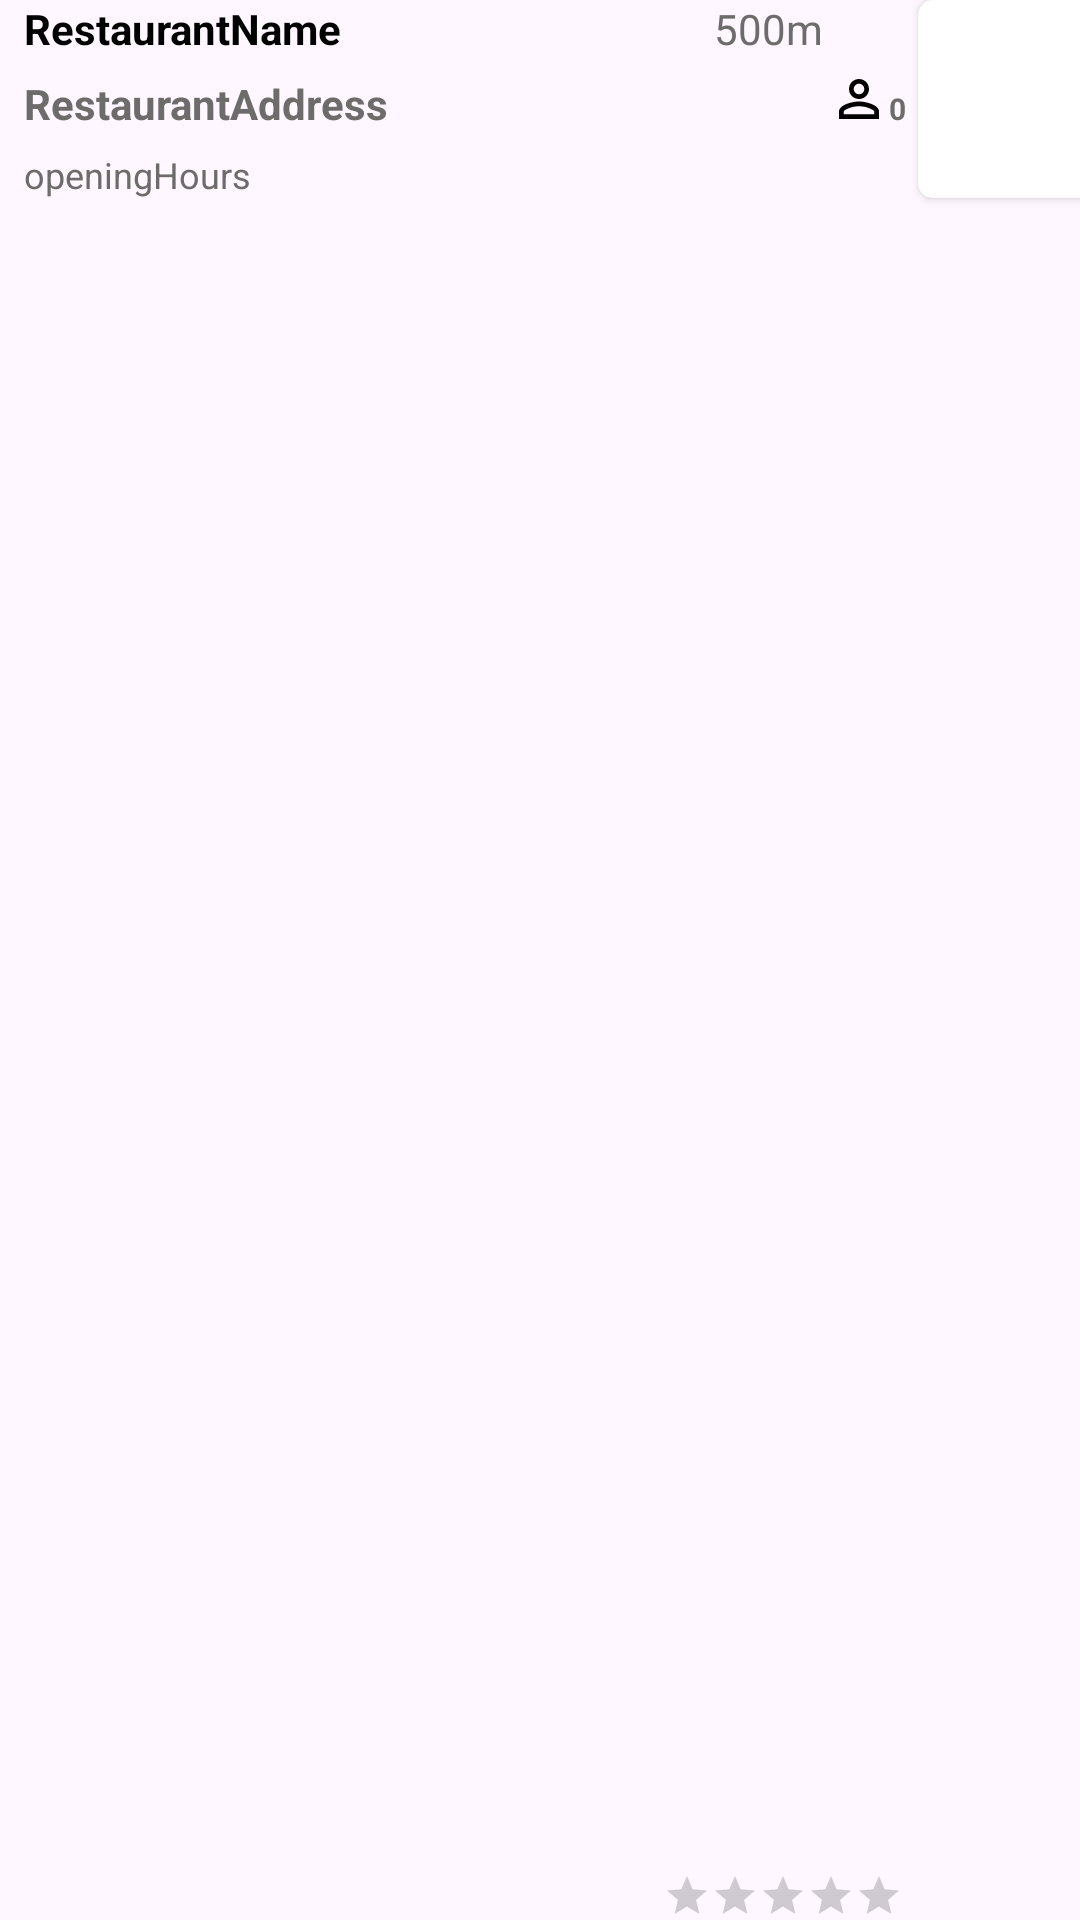

Icon click points for this 1080px×1920px phone screenshot, format point (x, y):
perm identity: point (859, 99)
